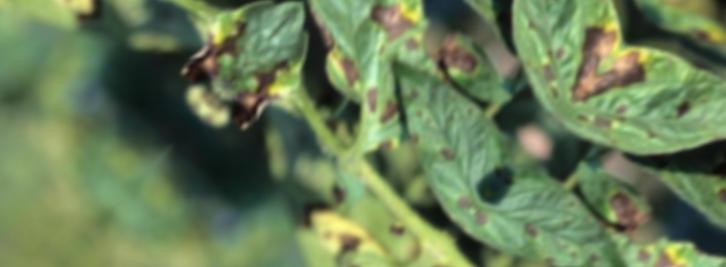Tomato Early blight leaf: (339, 38, 531, 227), (417, 0, 663, 142), (267, 0, 507, 144), (386, 0, 603, 25)
